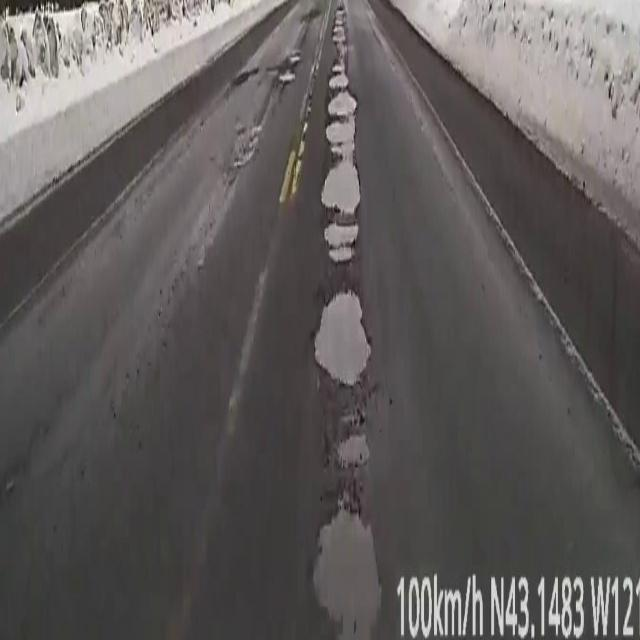pothole: (322, 0, 359, 261), (315, 500, 383, 636), (314, 294, 370, 386), (338, 430, 368, 466)
